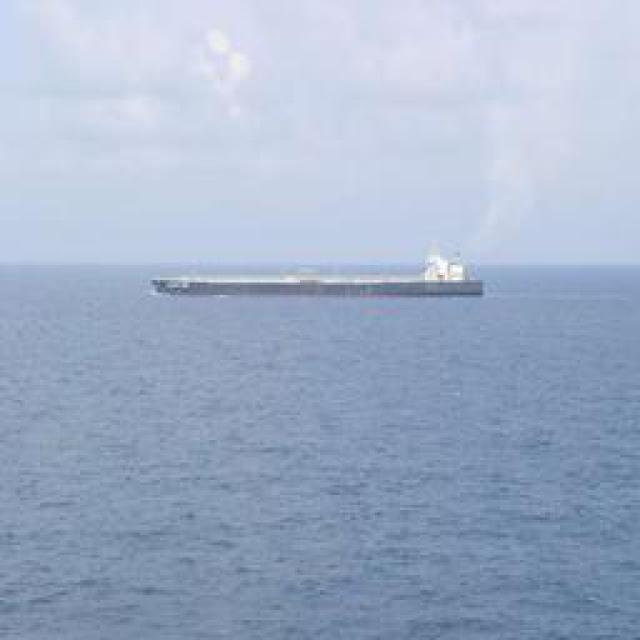Ship: (150, 258, 488, 303)
